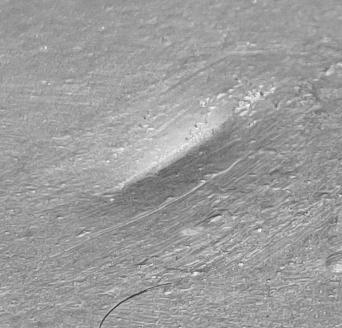dent: (0, 1, 342, 328)
